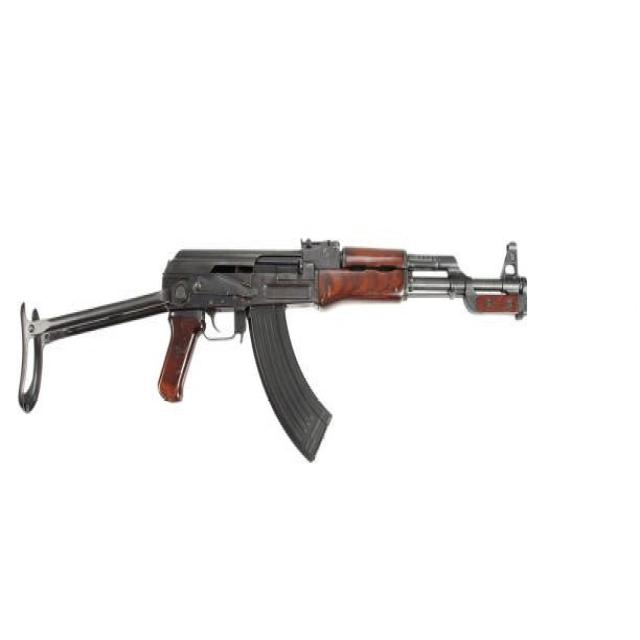rifle: (10, 230, 539, 470)
